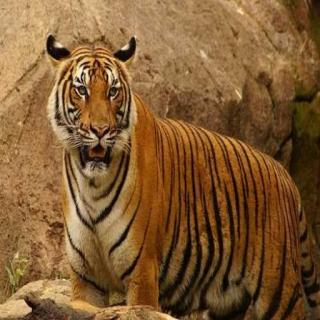Tiger: (26, 29, 320, 304)
